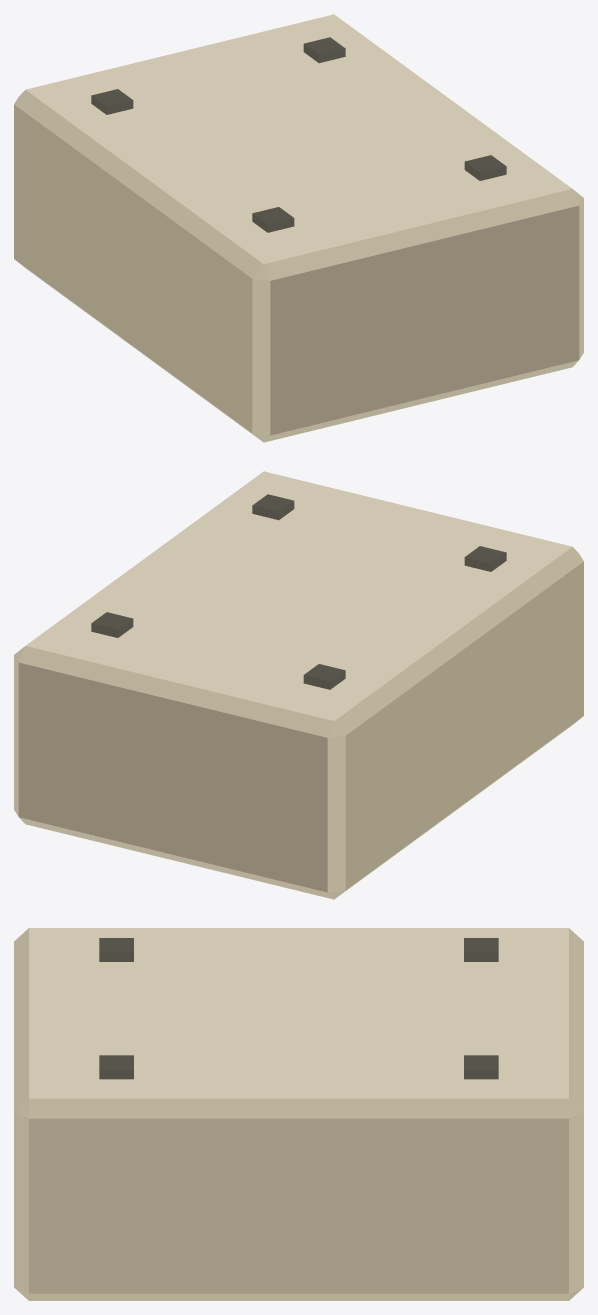
Rendered from ERA_FRONT_02.glb.
The picture shows the model from 3 angles, top to bottom: view 1: azimuth 30°, elevation 25°; view 2: azimuth 150°, elevation 25°; view 3: azimuth 270°, elevation 25°; orthographic projection. The views are drawn at different scales.
Visible parts, largest first — view 1: ERA_FRONT_02.001; view 2: ERA_FRONT_02.001; view 3: ERA_FRONT_02.001.
Part boxes in pixels (x1,y1,x2,y2): ERA_FRONT_02.001: [14, 14, 583, 442]; ERA_FRONT_02.001: [14, 471, 583, 899]; ERA_FRONT_02.001: [14, 928, 583, 1300].
Bounding box in the file's own units: 0.35 × 0.1885 × 0.46.
